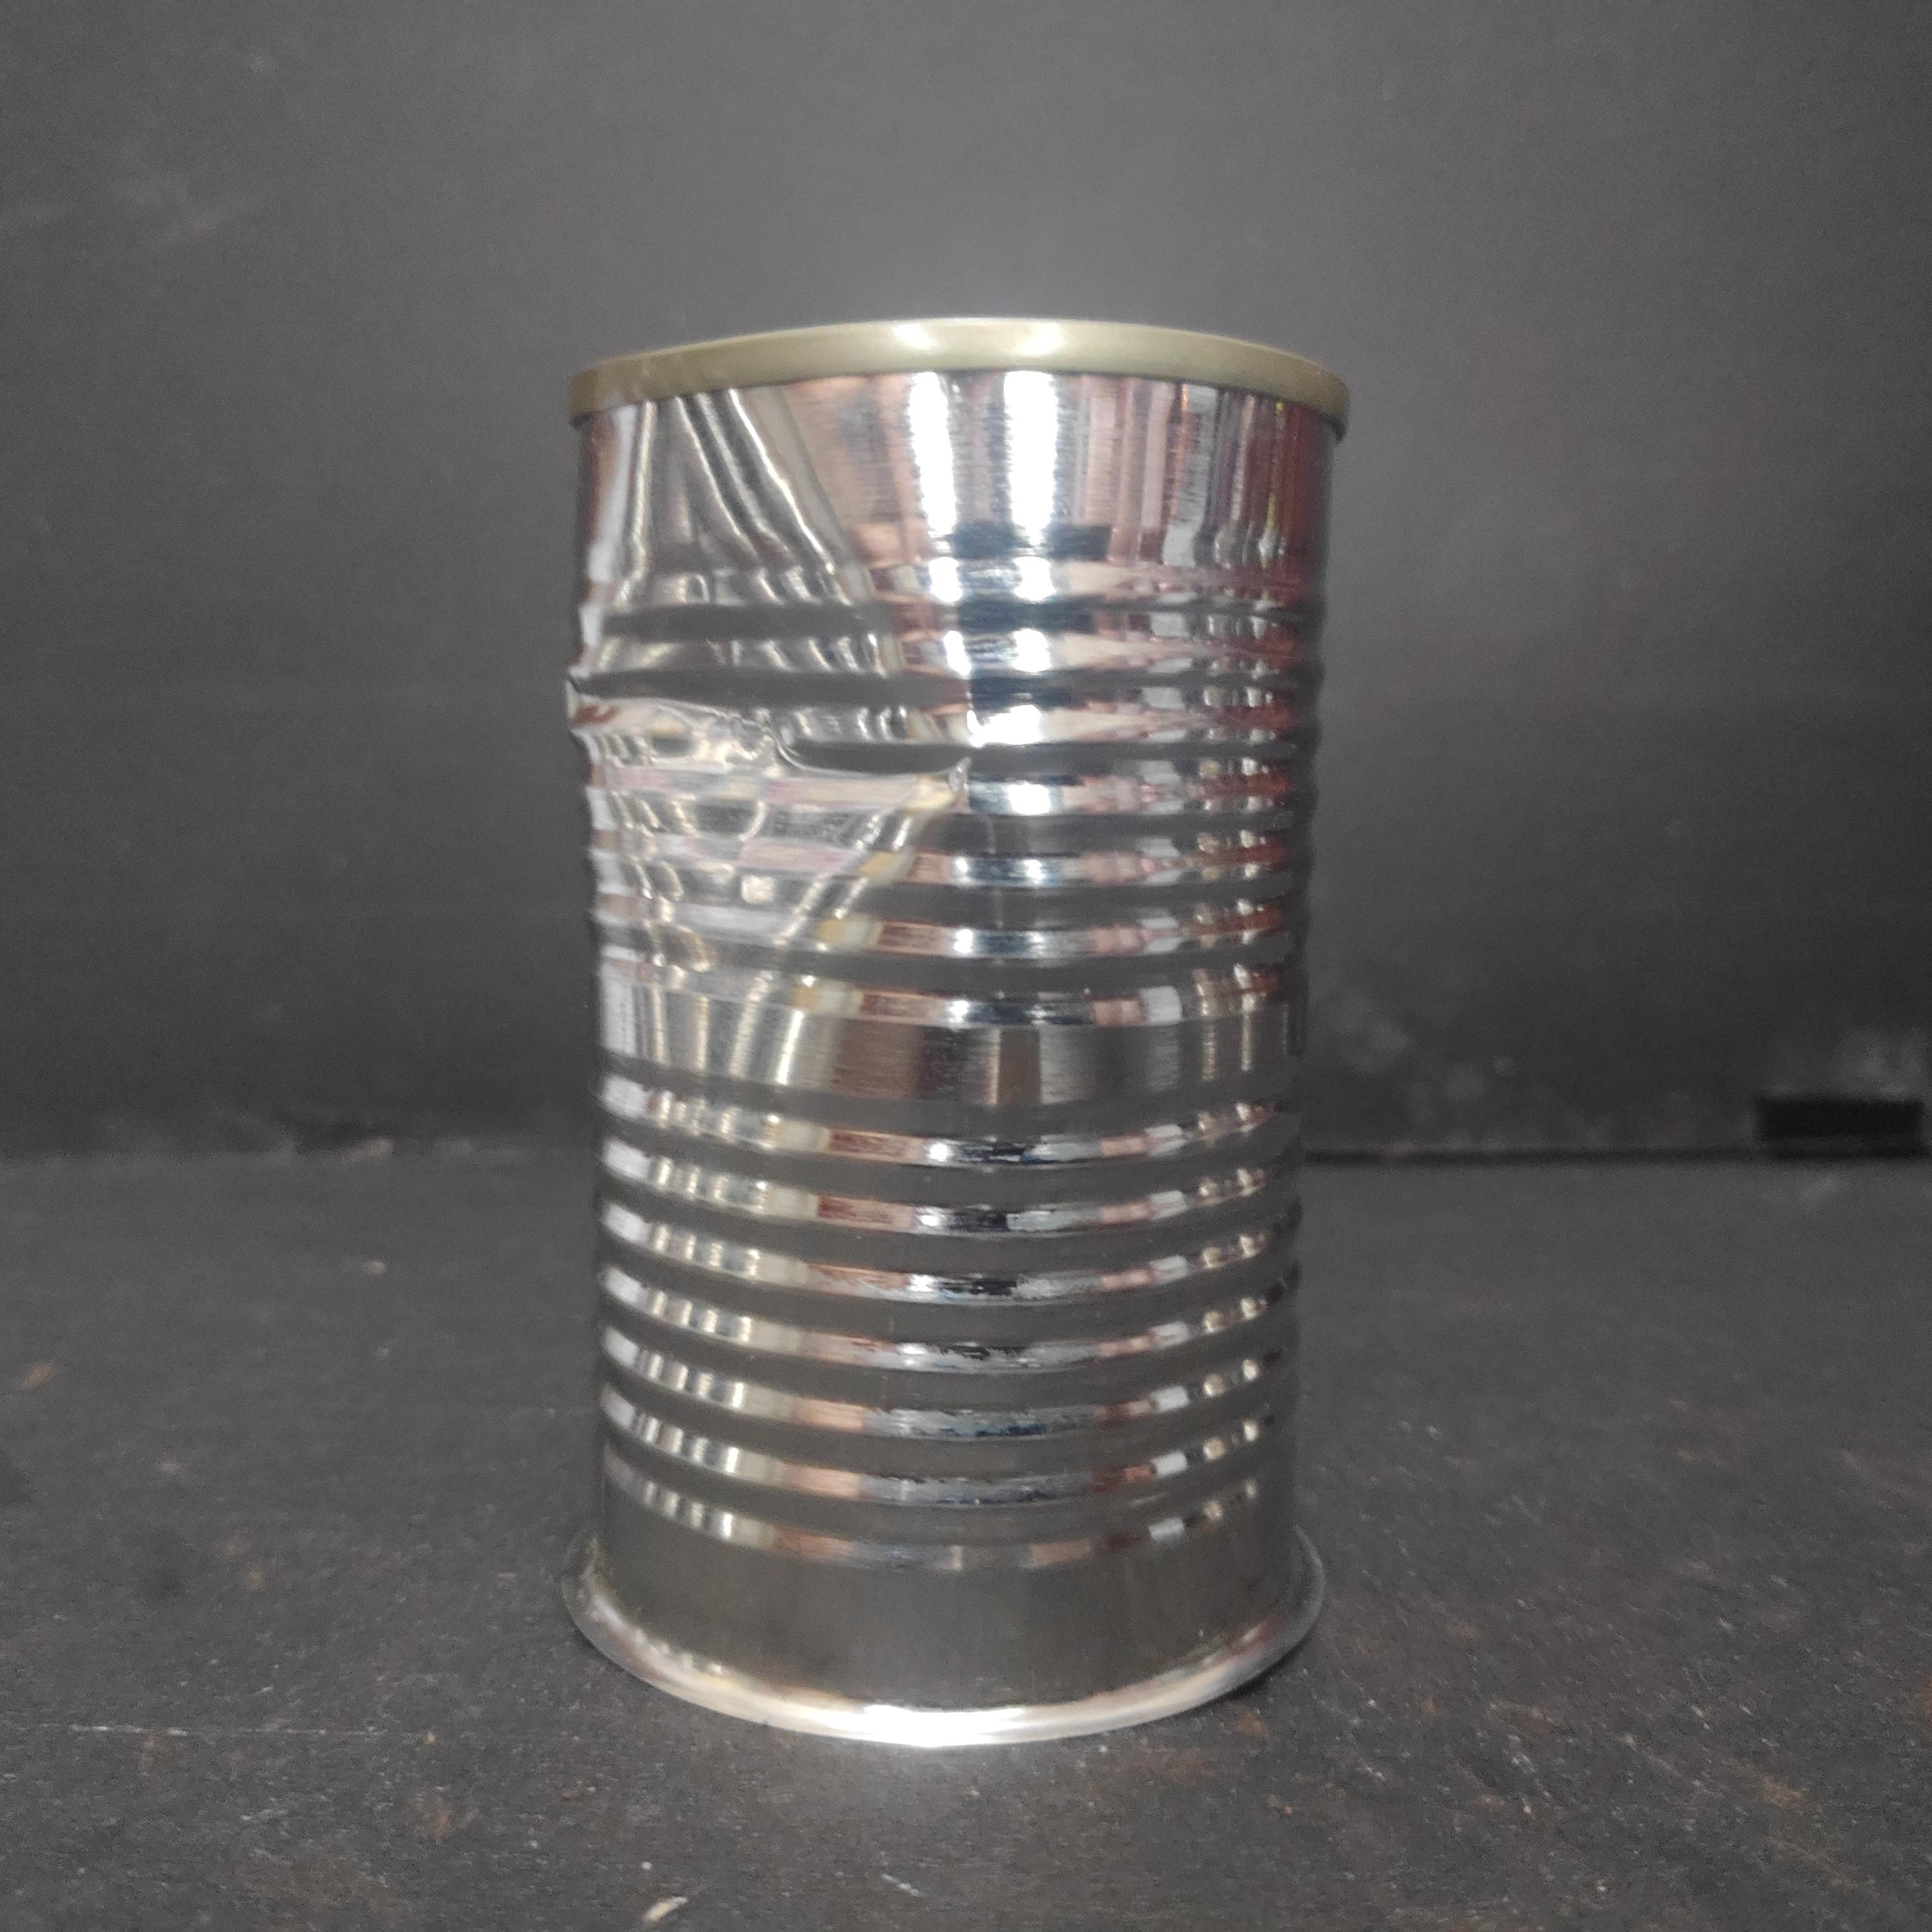Minor Defect: (554, 304, 1359, 1769)
